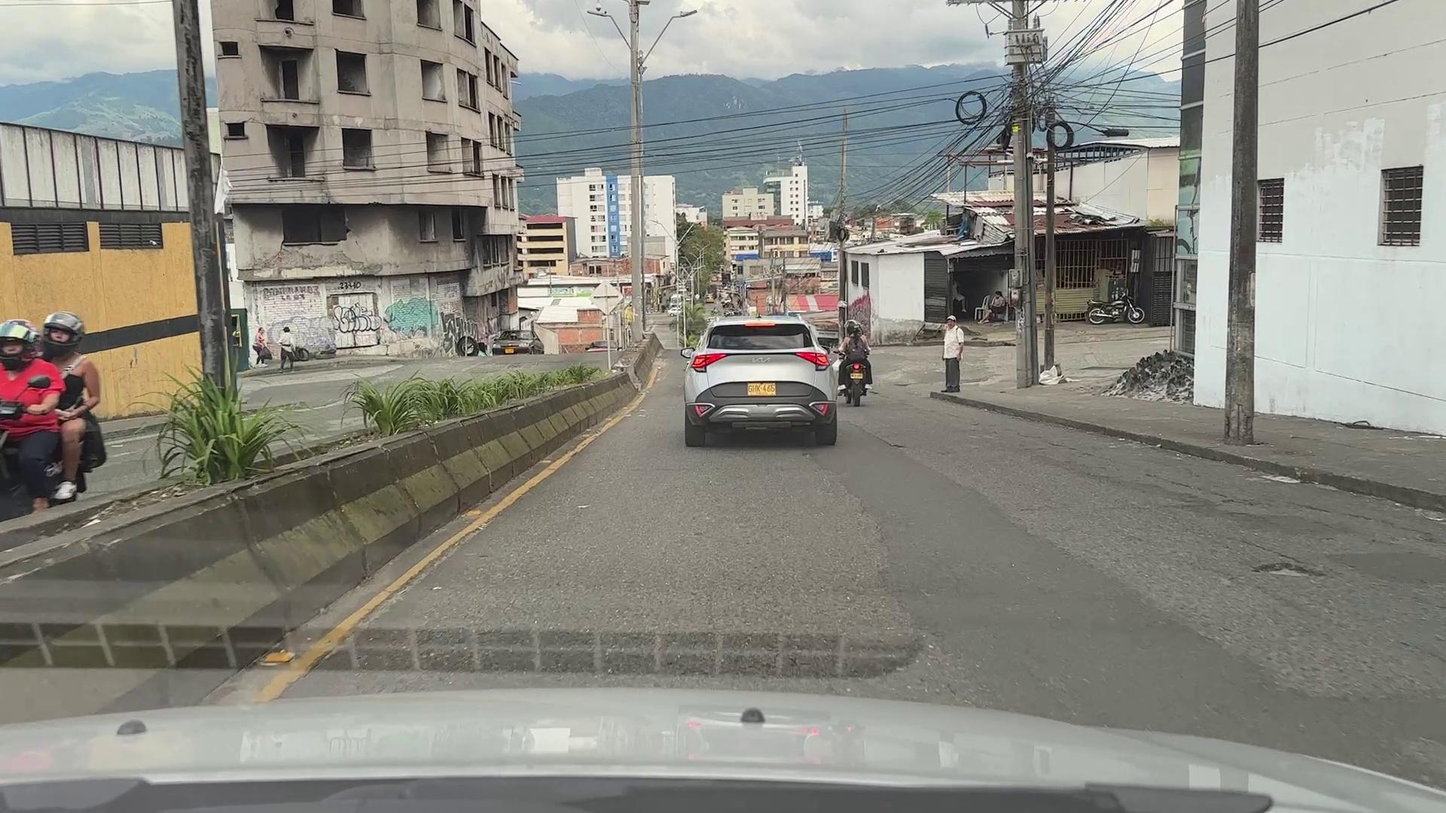bache: (1254, 562, 1323, 575)
